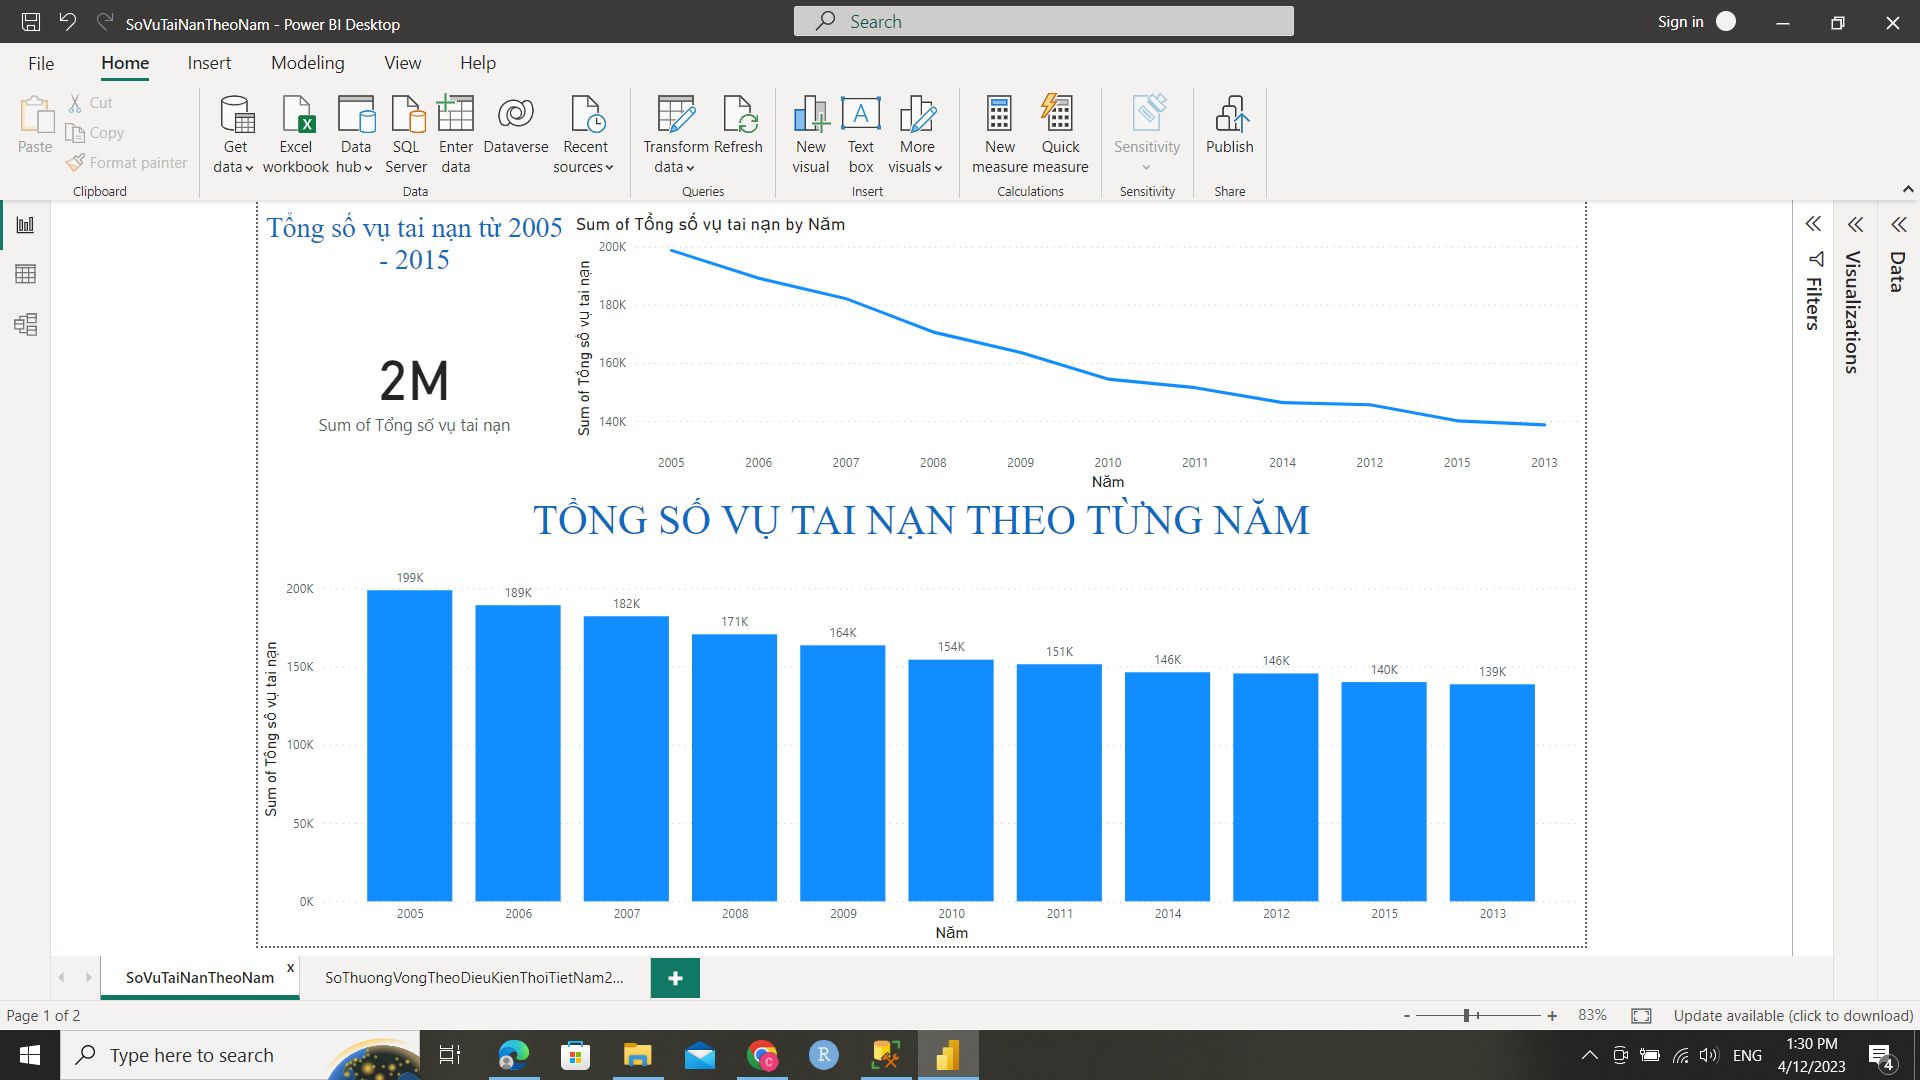

The dashboard page shown, as its layout file describes it:
{"tool":"powerbi","page":{"name":"SoVuTaiNanTheoNam","canvas":[1280,720],"ordinal":0},"visuals":[{"type":"columnChart","title":"TỔNG SỐ VỤ TAI NẠN THEO TỪNG NĂM","fields":{"Y":["Sum(Accidents In UK.Fact Count)"],"Category":["Accidents In UK.Dim Date.Year Accident"]},"box":[0,285.4,1280.3,435],"z":0},{"type":"card","title":"Tổng số vụ tai nạn từ 2005 - 2015","fields":{"Values":["Sum(Accidents In UK.Tổng số vụ tai nạn)"]},"box":[0,12.3,301.9,273.1],"z":1},{"type":"lineChart","fields":{"Category":["Accidents In UK.Năm"],"Y":["Sum(Accidents In UK.Tổng số vụ tai nạn)"]},"box":[301.9,12.3,978.4,273.1],"z":2}]}

Visuals, with their boxes on the page's 1280x720 design canvas (x1, y1, x2, y2). These are canvas units, not pixel positions in the 1920x1080 screenshot, which may show the page scaled, cropped or inside an application window:
"TỔNG SỐ VỤ TAI NẠN THEO TỪNG NĂM" columnChart: <bbox>0, 285, 1280, 720</bbox>
"Tổng số vụ tai nạn từ 2005 - 2015" card: <bbox>0, 12, 302, 285</bbox>
lineChart - Accidents In UK.Năm x Sum(Accidents In UK.Tổng số vụ tai nạn): <bbox>302, 12, 1280, 285</bbox>
